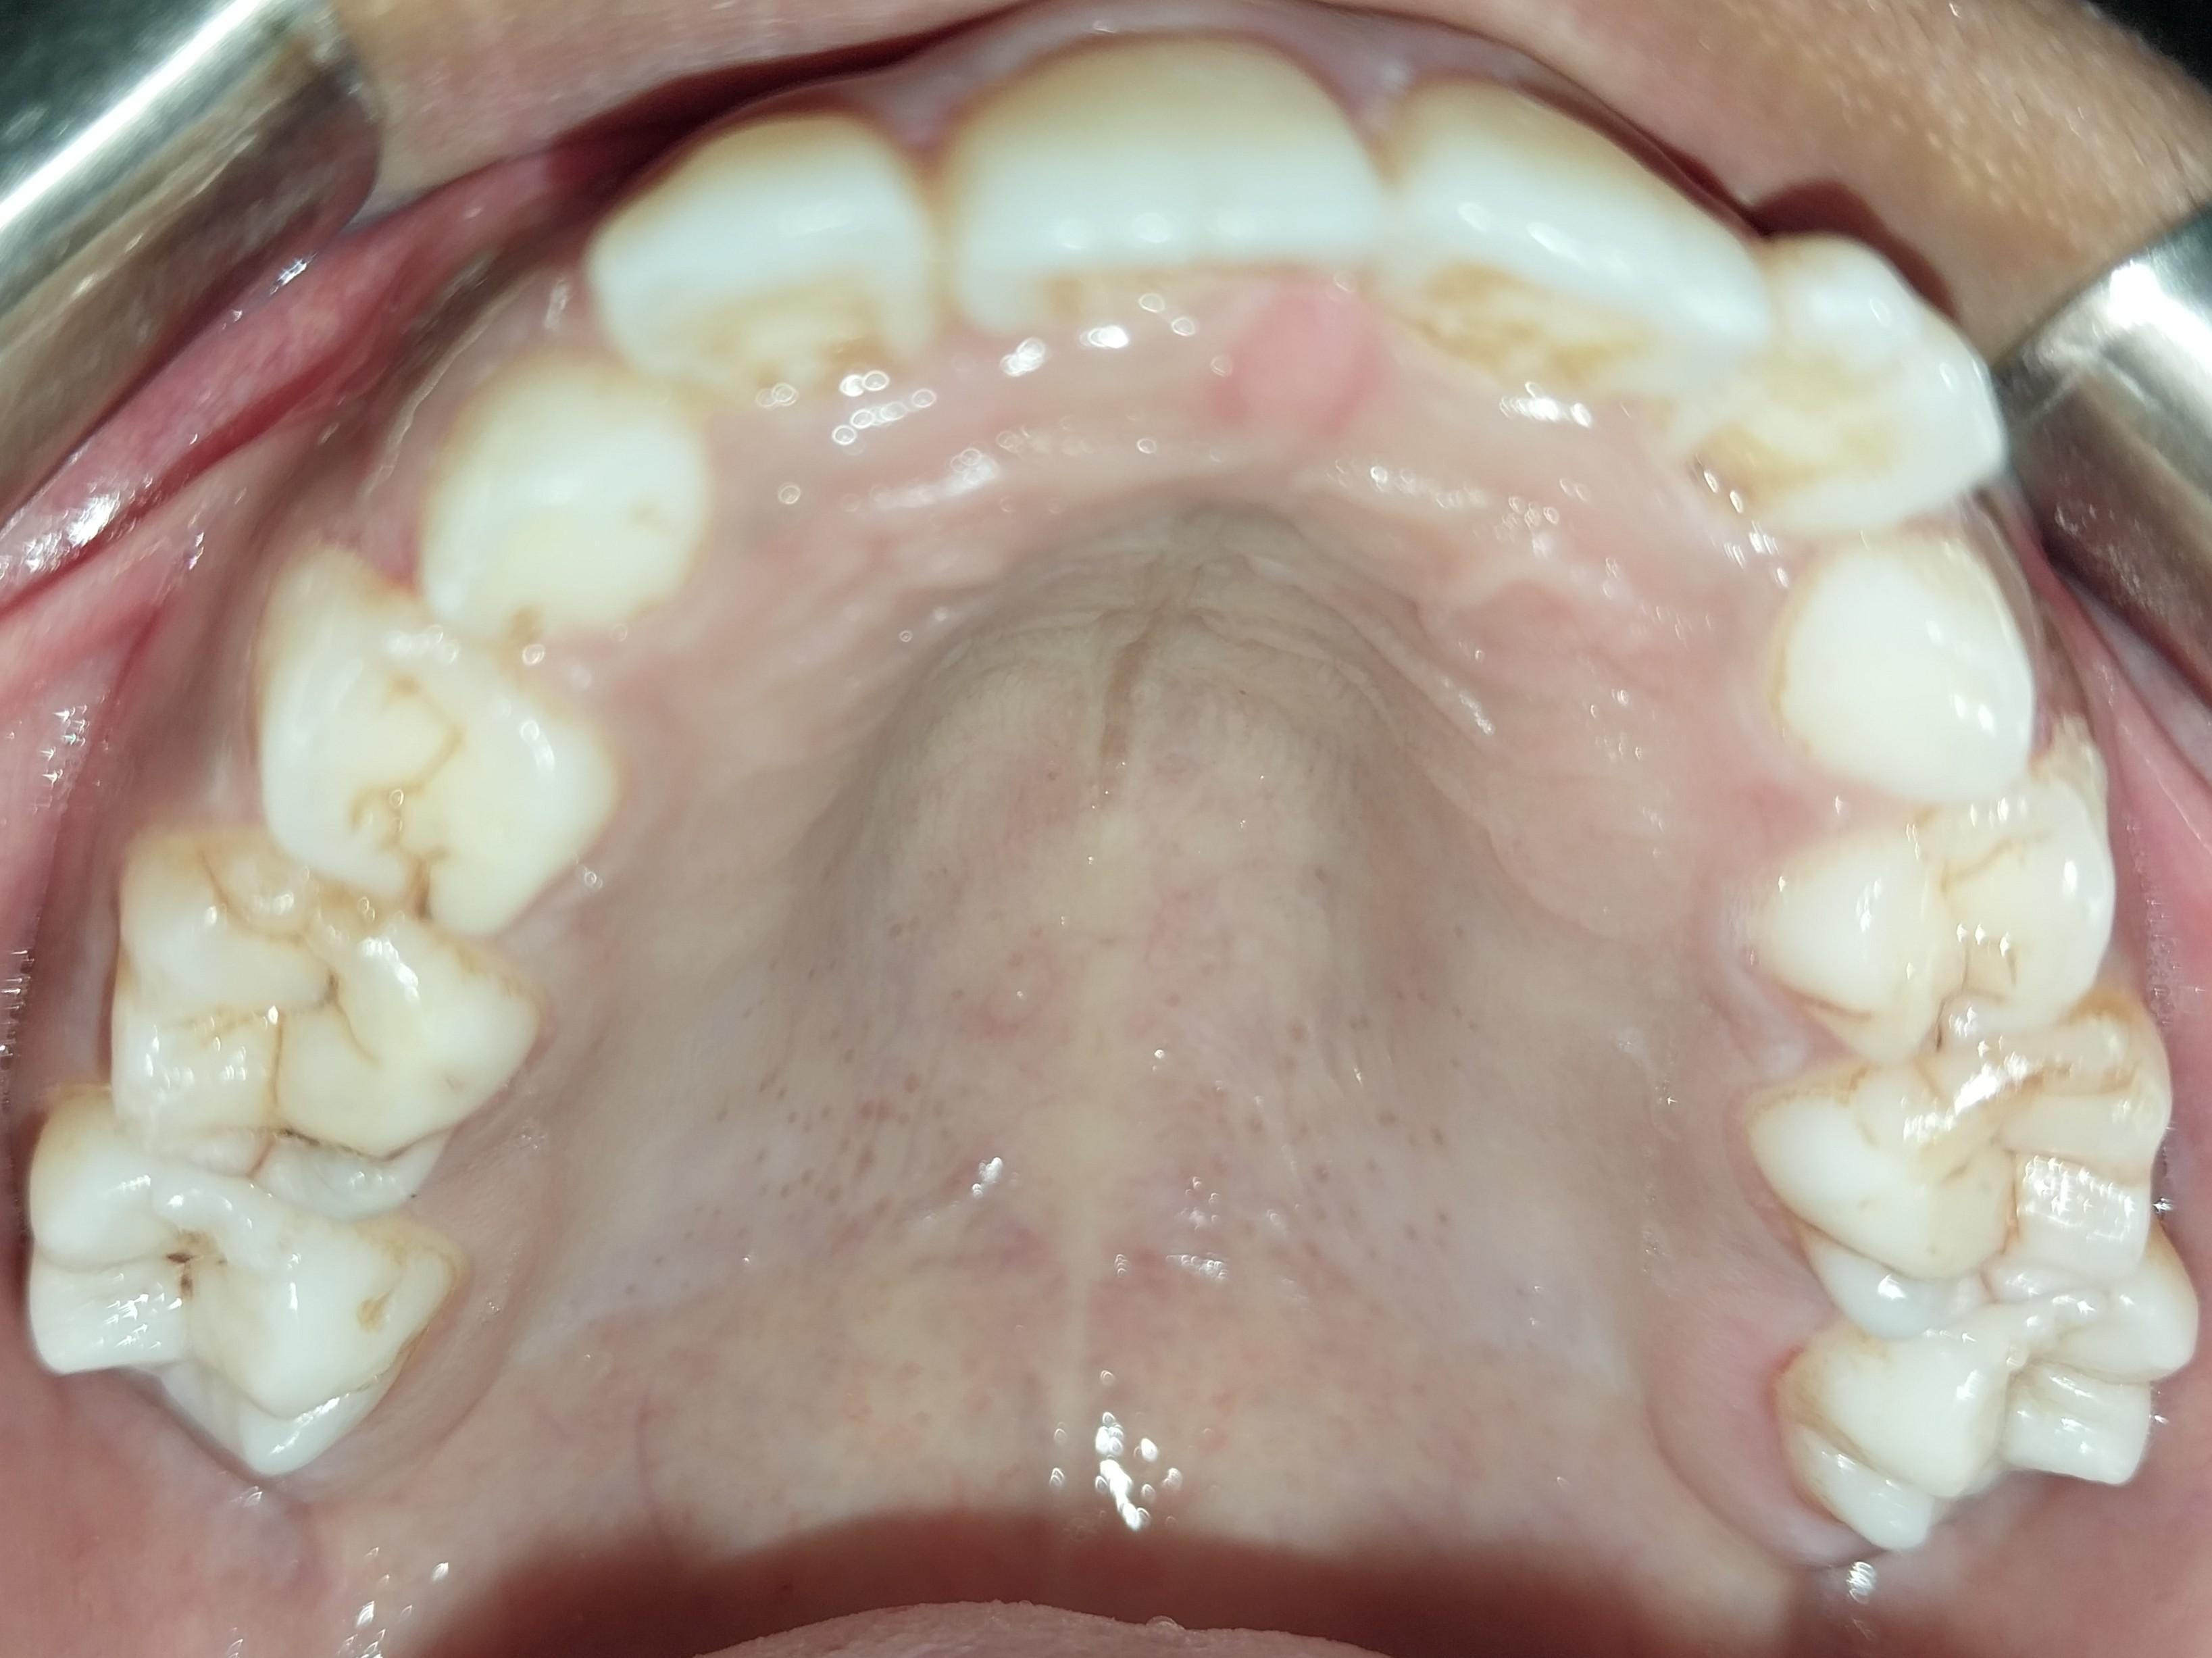d: (115, 832, 520, 1203)
